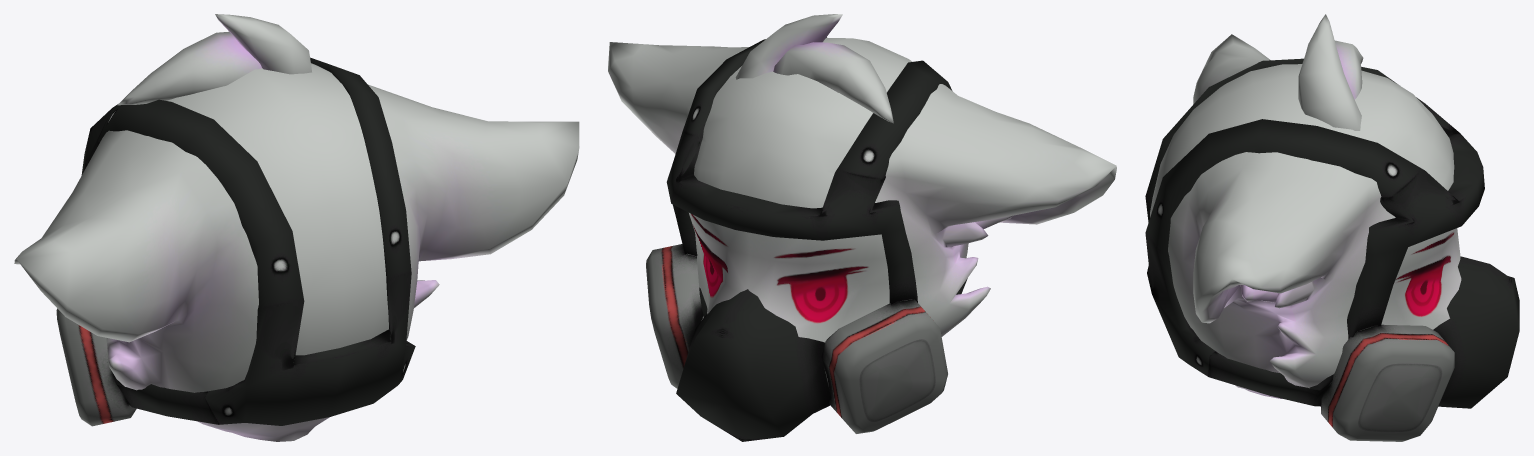
File: drk.glb
3 views of the same model, side by side, from view 1: azimuth 30°, elevation 25°; view 2: azimuth 150°, elevation 25°; view 3: azimuth 270°, elevation 25° (orthographic). The views are drawn at different scales.
Visible parts, largest first — view 1: drk; view 2: drk; view 3: drk.
Part boxes in pixels (<box>): drk: <box>14,14,579,441</box>; drk: <box>608,14,1116,441</box>; drk: <box>1145,14,1519,441</box>.
Size of the model in its own units: 3.73 by 2.68 by 2.41.
Materials: 3 (3 with a texture image).
